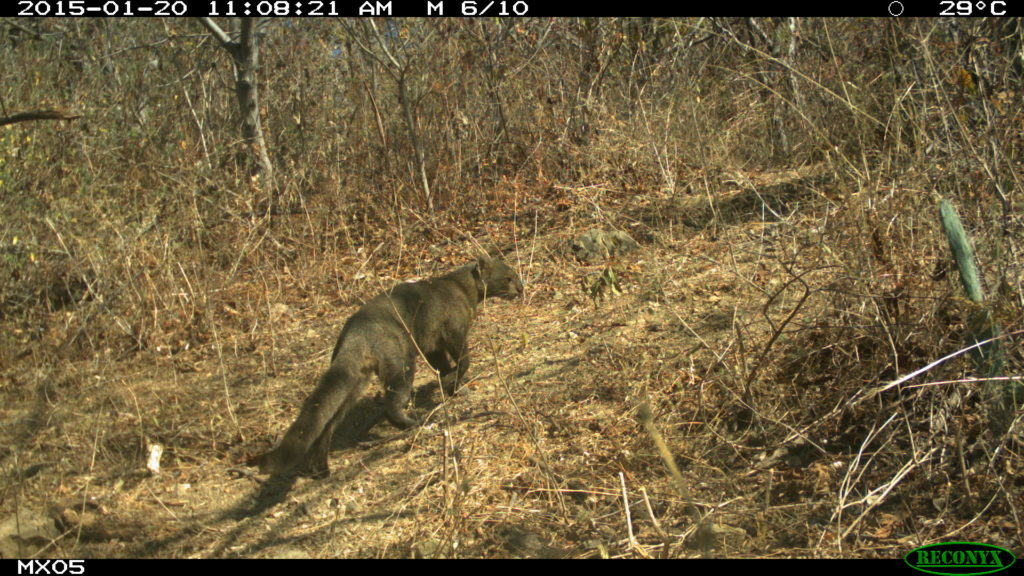Jaguarundi: (241, 249, 530, 474)
